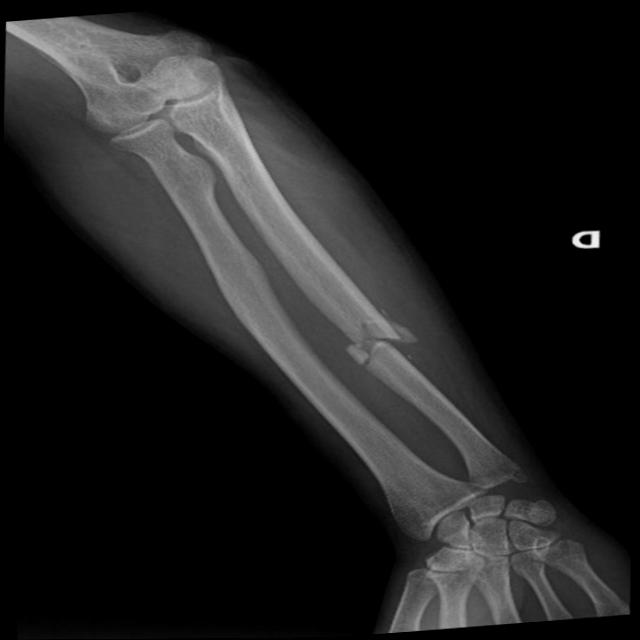Comminuted: (316, 303, 458, 387)
